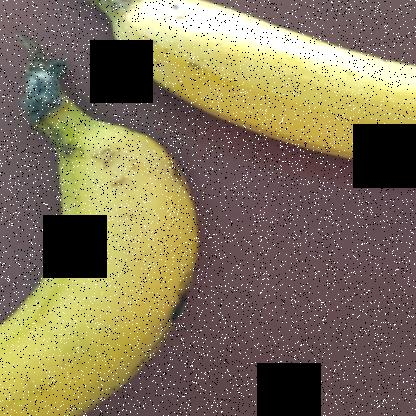freshripe: (1, 124, 206, 416), (72, 1, 415, 173)
